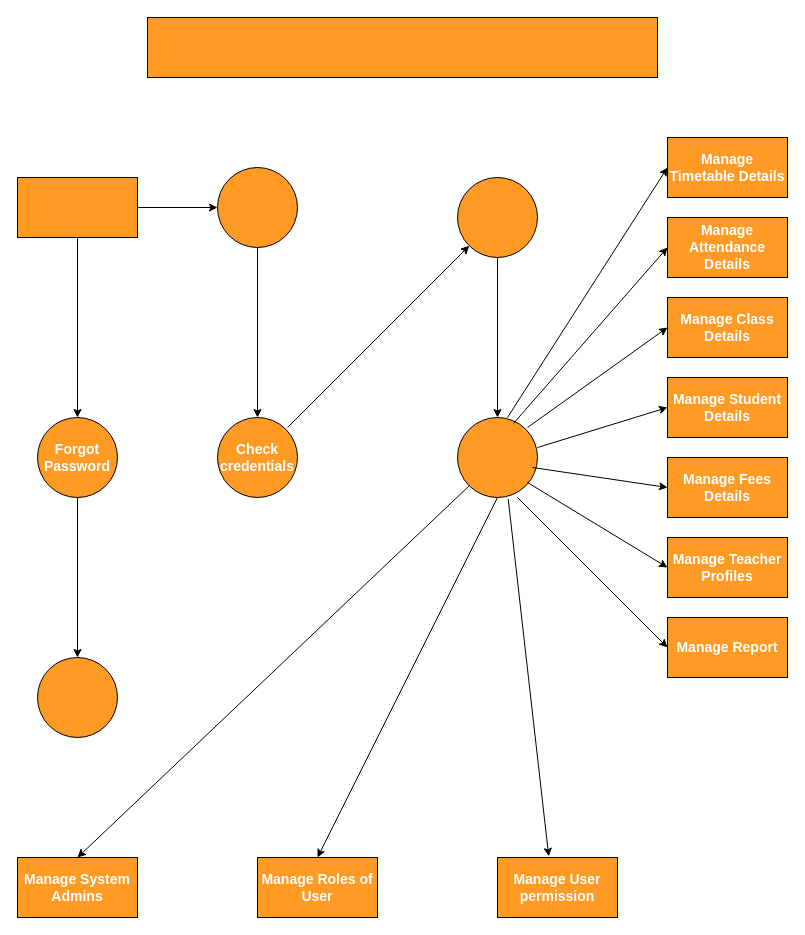
The diagram is 805 pixels wide and 935 high, and some of its shapes have lost their labels. The shapes that lost their labels are listed below. From the top down, each one's centre as x and y in pixels, then its label:
the point at 402,47: Student Information System
the point at 77,207: Admin
the point at 257,207: Login to System
the point at 497,217: Check Role of Access
the point at 497,457: Manage Modules
the point at 77,697: Send Email to User
